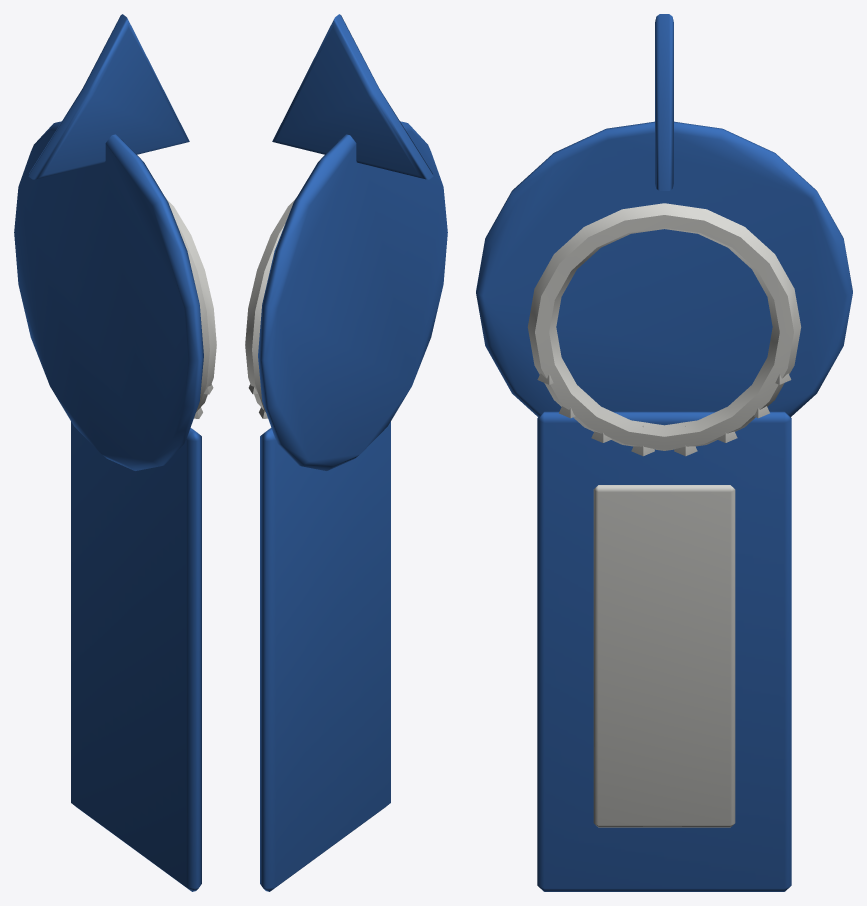
Rendered from SM_Prop_StandIn_Shark.fbx.
3 views of the same model, side by side, from view 1: azimuth 30°, elevation 25°; view 2: azimuth 150°, elevation 25°; view 3: azimuth 270°, elevation 25° (orthographic). The views are drawn at different scales.
Parts seen in each view (by area): view 1: SM_Prop_StandIn_Shark; view 2: SM_Prop_StandIn_Shark; view 3: SM_Prop_StandIn_Shark.
Part boxes in pixels (x1,y1,x2,y2): SM_Prop_StandIn_Shark: (14, 14, 216, 891); SM_Prop_StandIn_Shark: (245, 14, 447, 891); SM_Prop_StandIn_Shark: (476, 14, 852, 891).
Size of the model in its own units: 40.04 by 204 by 80.04.
